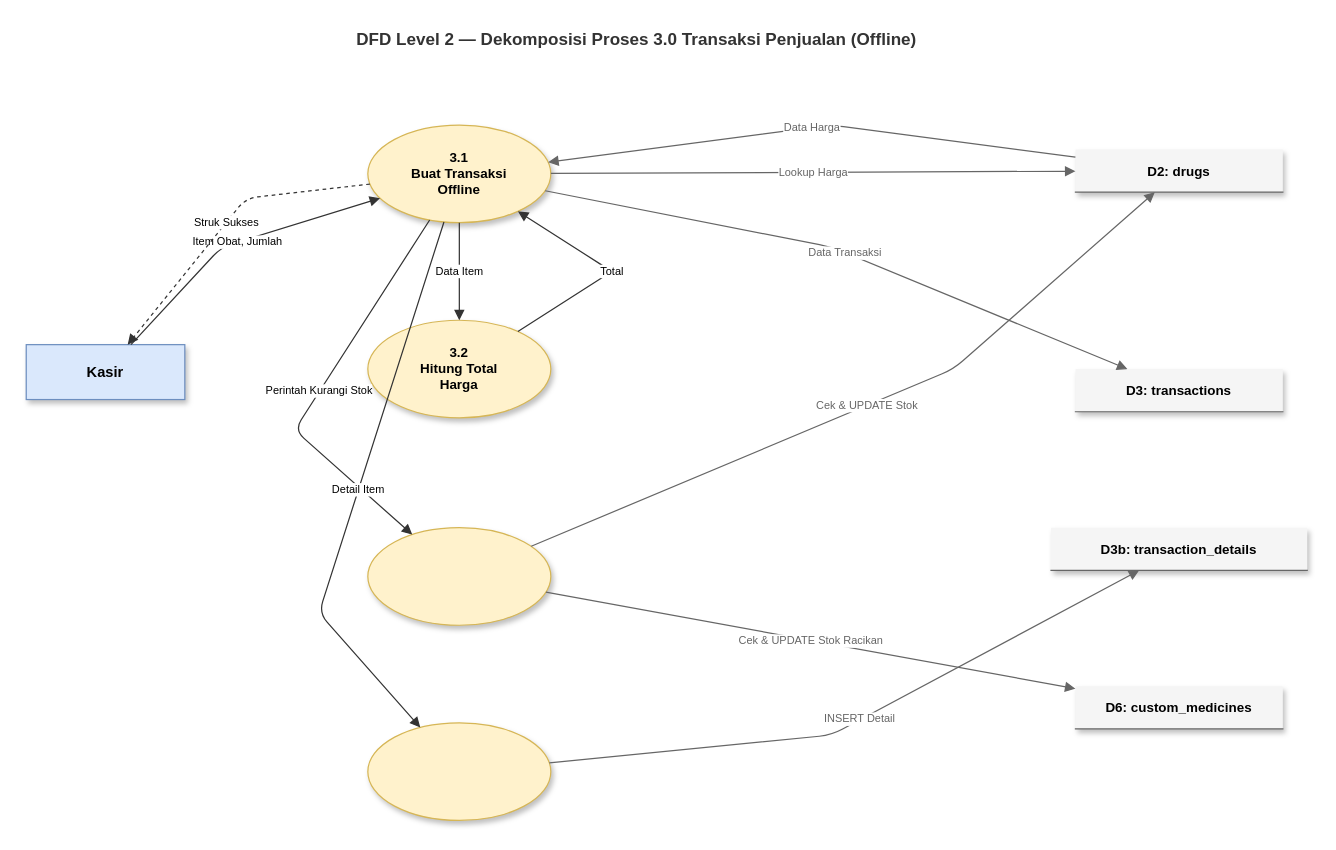
Some shapes in this 1336 by 850 pixel diagram are drawn without their labels. The shapes that lost their labels are listed below. From the top down, each one's centre as x and y in pixels, then its label:
(x=460, y=578): 3.3 Validasi & Kurangi Stok
(x=460, y=773): 3.4 Simpan Detail Transaksi
